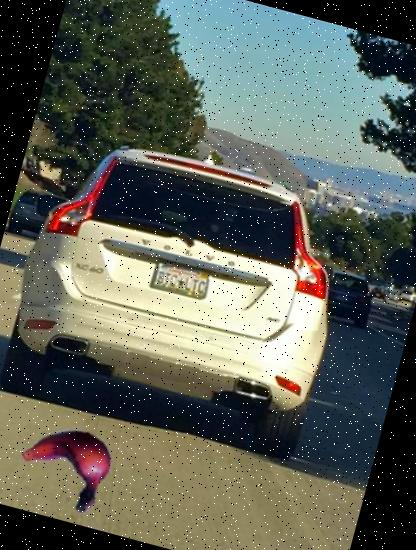Banana: (14, 408, 124, 518)
